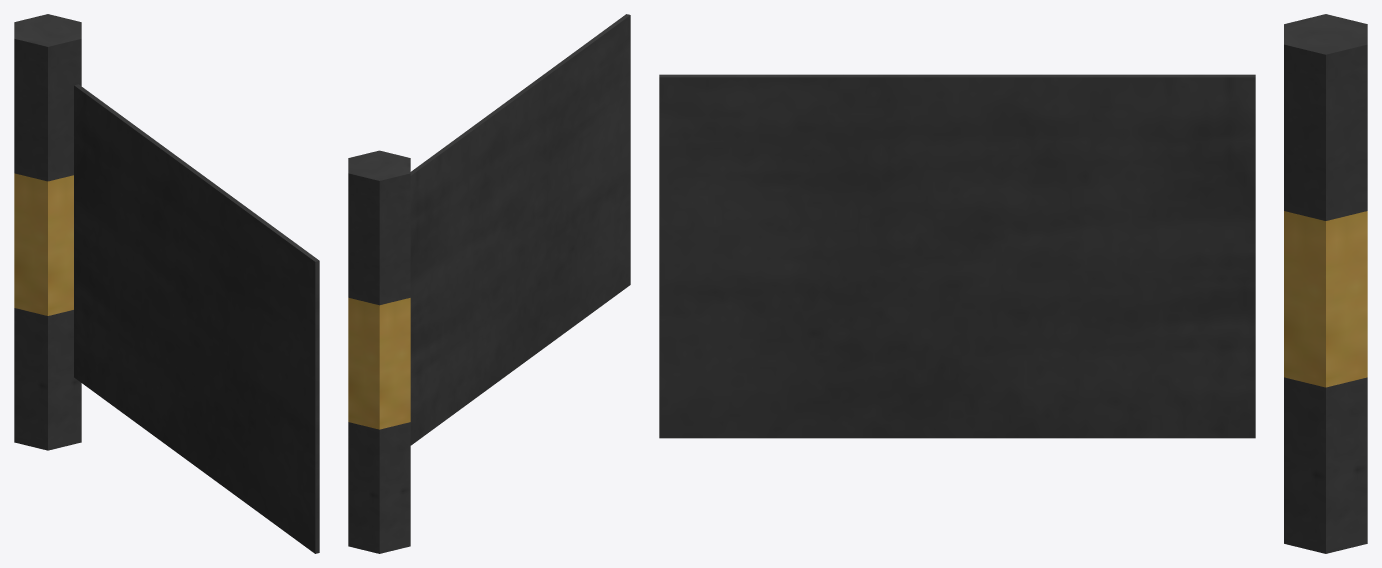
The model's file is SmallPillarBig.fbx.
3 views of the same model, side by side, from view 1: azimuth 30°, elevation 25°; view 2: azimuth 150°, elevation 25°; view 3: azimuth 270°, elevation 25° (orthographic). The views are drawn at different scales.
Visible parts, largest first — view 1: SmallPillarBig; view 2: SmallPillarBig; view 3: SmallPillarBig.
Boxes of the visible parts, x1,y1,x2,y2 form: SmallPillarBig: (14,14,319,553); SmallPillarBig: (348,14,630,553); SmallPillarBig: (659,14,1367,553).
Size of the model in its own units: 147 by 20.04 by 114.
